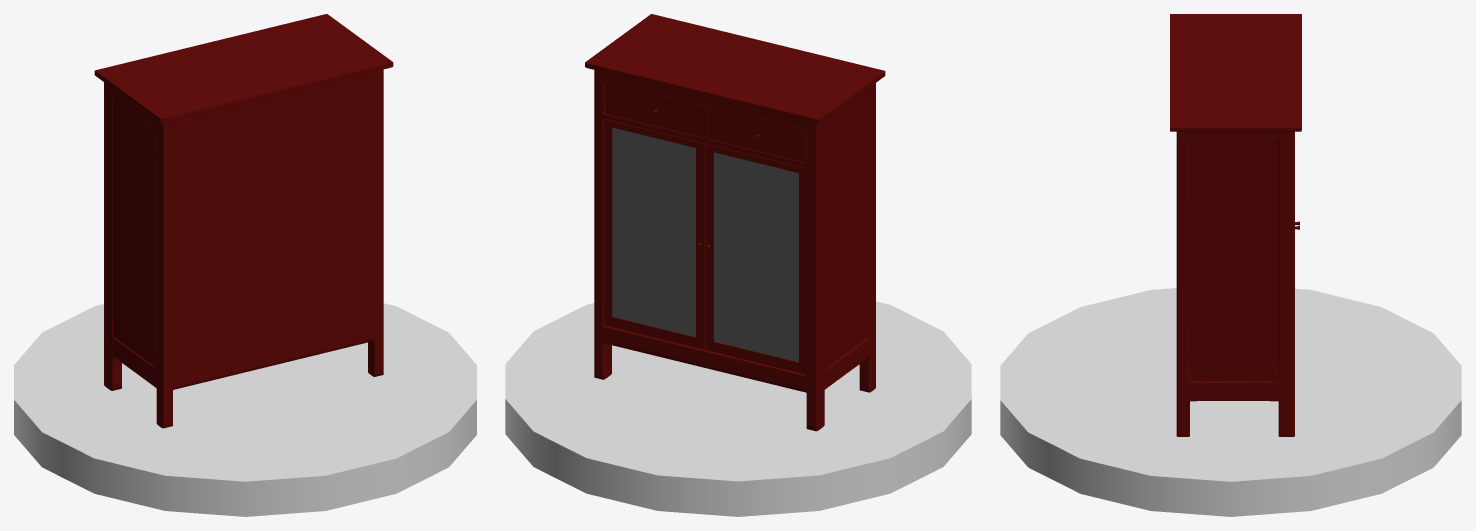
Rendered from IKEA Cabinate 1.fbx.
3 renders of one model, left to right at view 1: azimuth 30°, elevation 25°; view 2: azimuth 150°, elevation 25°; view 3: azimuth 270°, elevation 25°, orthographic.
Parts seen in each view (by area): view 1: Base, Platform; view 2: Platform, Base, DoorL, DoorR, DrawerL, DrawerR; view 3: Platform, Base.
Part boxes in pixels (x1,y1,x2,y2): Base: (94,14,393,428); Platform: (14,303,476,516); Platform: (505,301,971,516); Base: (585,14,885,431); DoorL: (604,119,706,349); DoorR: (706,144,806,374); DrawerL: (605,81,703,137); DrawerR: (708,106,806,162); Platform: (1000,288,1461,516); Base: (1170,14,1301,436).
Bounding box in the file's own units: 202 × 166 × 199.
